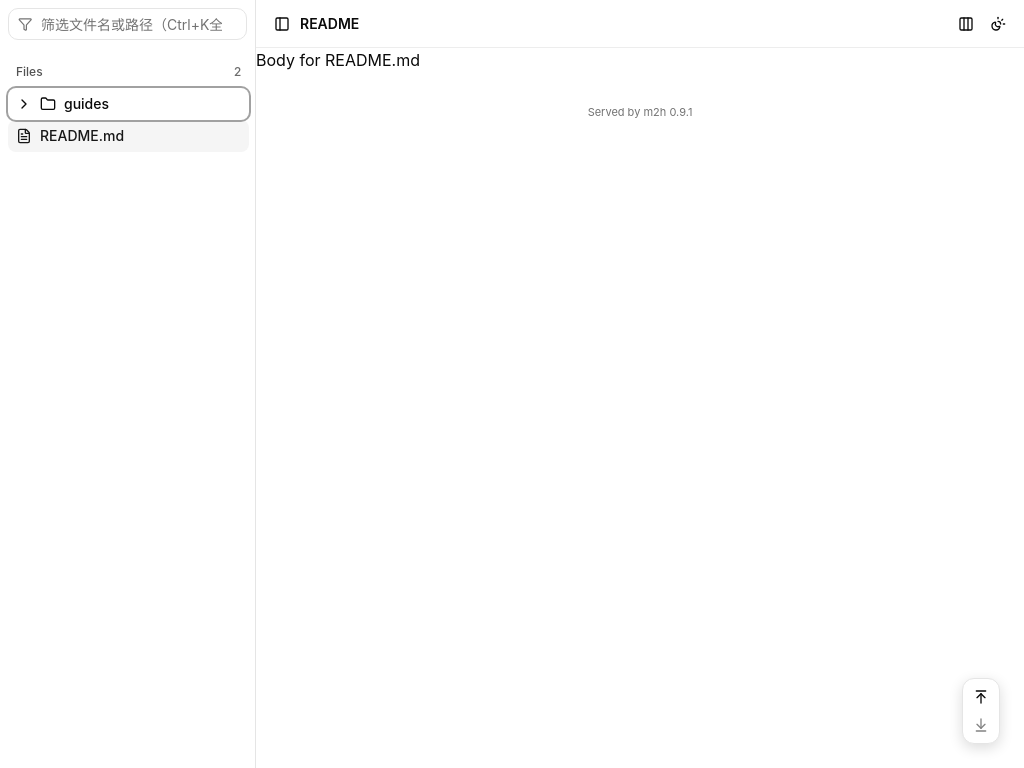
Test: App directory preview › supports keyboard tree toggles and the theme menu
(page scrolled)
Expected: the text "Body for README.md" is shown, [256,50,420,70]
Press Enter
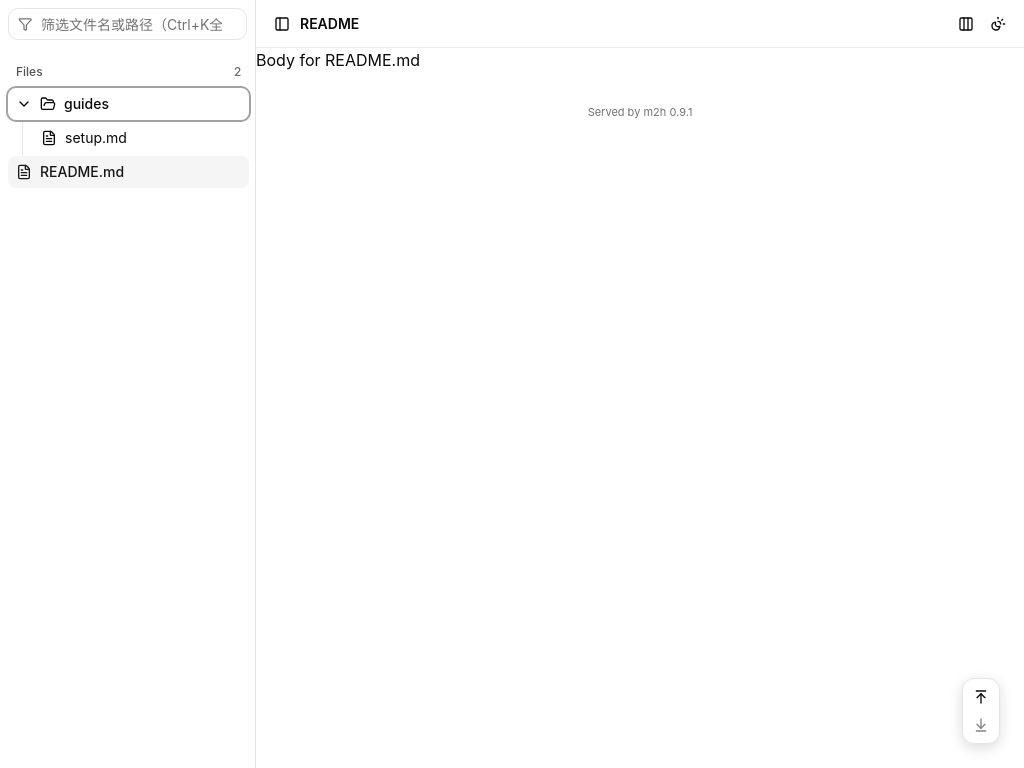
Result: the button "guides" is expanded at [8,88,249,120]
Click the button named "显示主题：跟随系统": (998, 24) [984,10,1012,38]
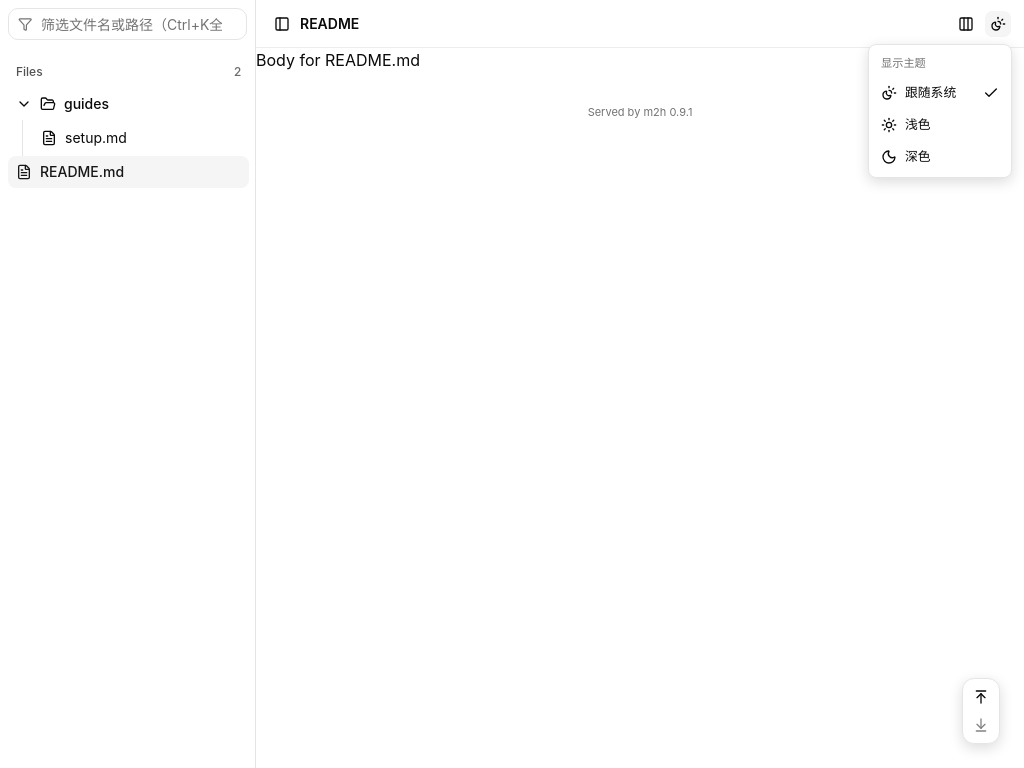
Click the menu item "深色": (906, 157) [881,149,931,165]
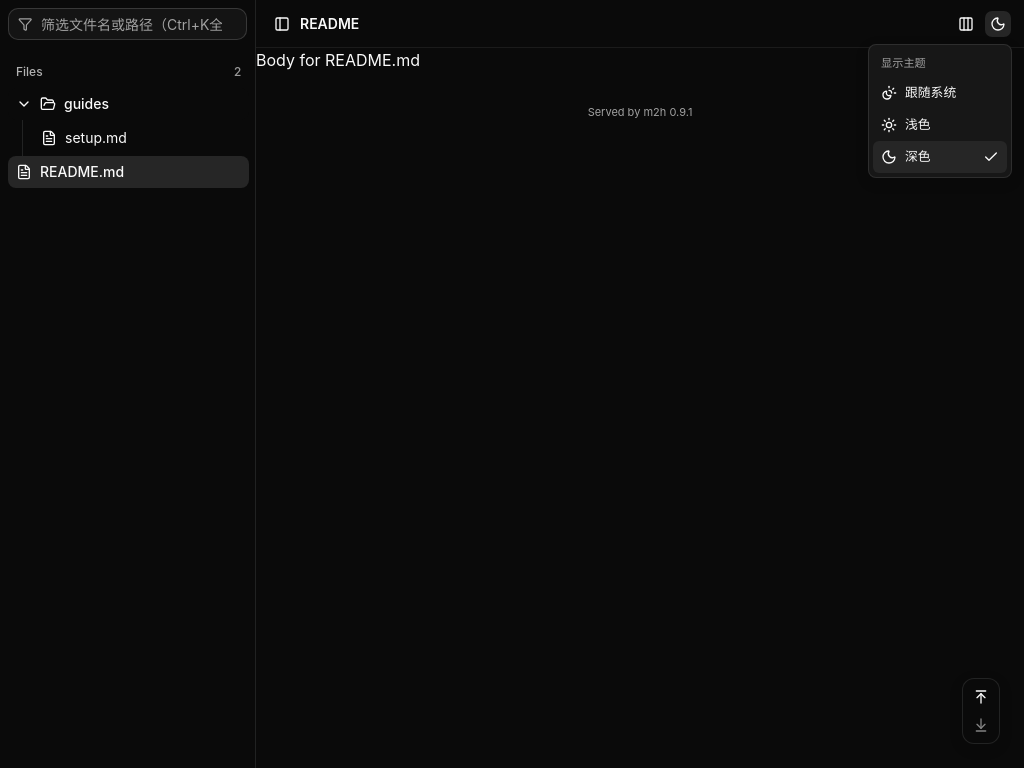
Result: the button named "显示主题：深色" is shown at [984,10,1012,38]
